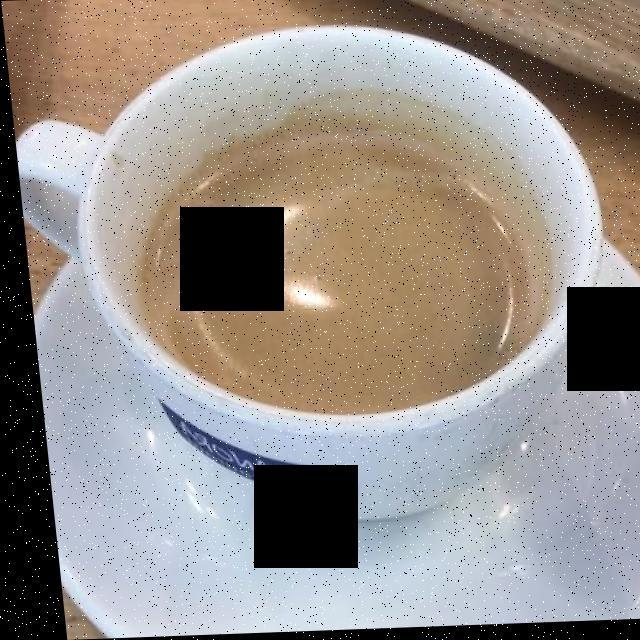coffee: (126, 100, 542, 412)
